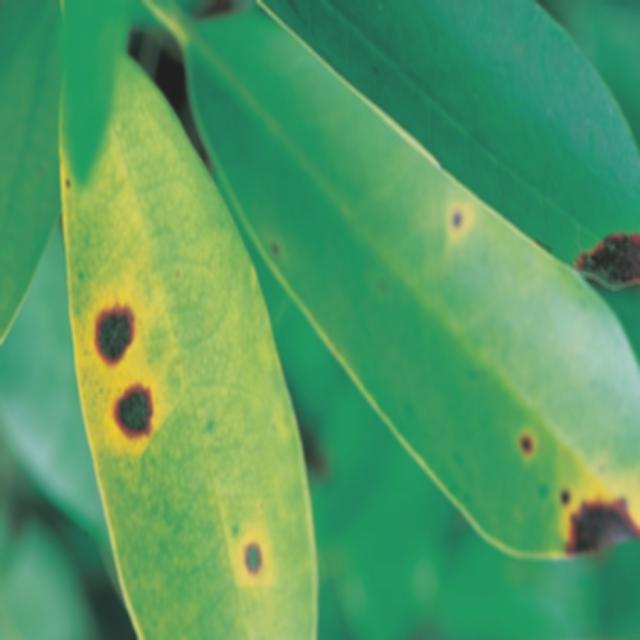Tar_Spot: (518, 394, 640, 580), (87, 235, 177, 461), (441, 182, 484, 292), (231, 527, 304, 591)
